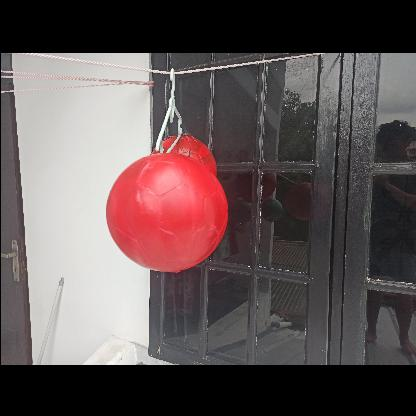red_ball: (108, 150, 230, 270)
